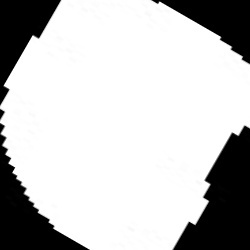spot: (1, 3, 247, 247)
